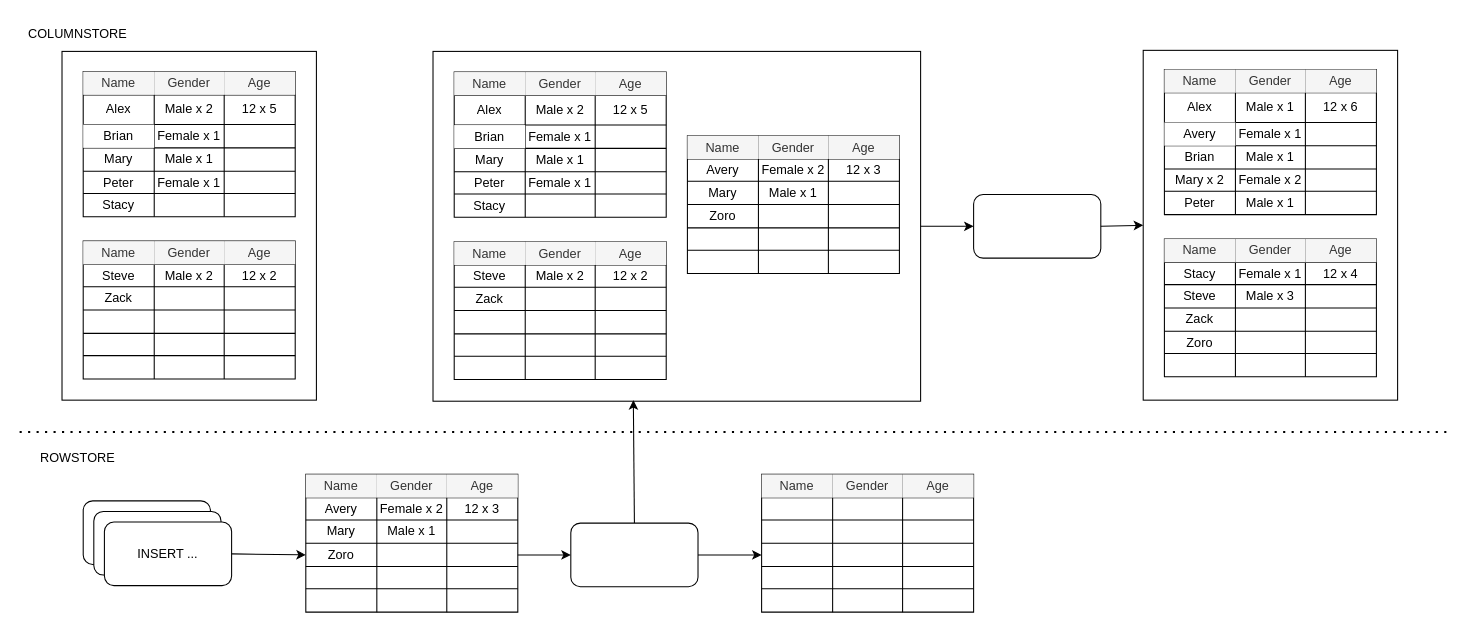
The diagram is 1470 pixels wide and 631 high, and some of its shapes have lost their labels. The centre of each missing label's shape, as x and y in pixels:
OPTIMIZER: (x=1037, y=225)
PERSIST: (x=634, y=554)
